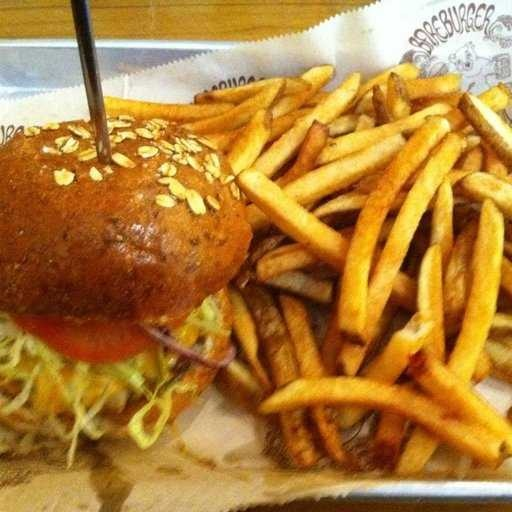hamburger: (1, 106, 241, 440)
